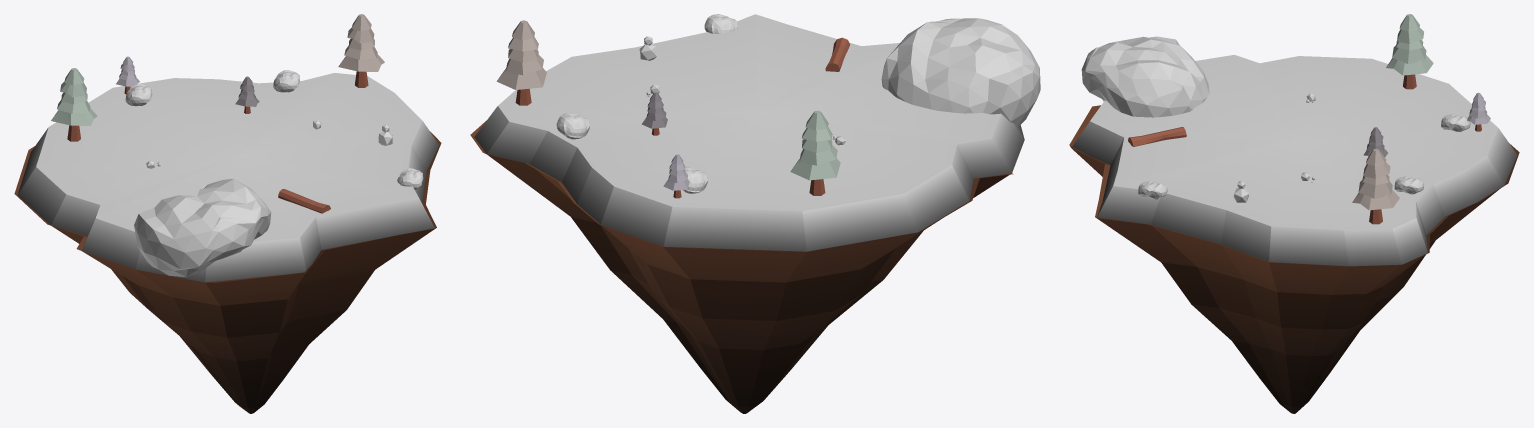
File: table_snow.glb
The picture shows the model from 3 angles, left to right: view 1: azimuth 30°, elevation 25°; view 2: azimuth 150°, elevation 25°; view 3: azimuth 270°, elevation 25°; orthographic projection. The views are drawn at different scales.
Parts seen in each view (by area): view 1: Vert.001, Vert, Icosphere.011, Tree.005, Tree.001, Cylinder.001, Tree.002, Icosphere.001, Icosphere.020, Tree.003, Icosphere.010; view 2: Vert.001, Vert, Icosphere.011, Tree.001, Tree.005, Icosphere.001, Tree.003, Tree.002, Icosphere.010; view 3: Vert.001, Vert, Icosphere.011, Tree.001, Tree.005, Cylinder.001, Tree.003, Icosphere.010, Icosphere.001, Icosphere.020.
Part boxes in pixels (x1,y1,x2,y2): Vert.001: (17, 73, 439, 282); Vert: (14, 131, 441, 413); Icosphere.011: (134, 178, 271, 277); Tree.005: (51, 68, 97, 141); Tree.001: (338, 14, 384, 87); Cylinder.001: (278, 189, 330, 213); Tree.002: (235, 76, 259, 113); Icosphere.001: (273, 70, 299, 92); Icosphere.020: (125, 83, 152, 106); Tree.003: (116, 56, 139, 94); Icosphere.010: (397, 168, 423, 189); Vert.001: (474, 14, 1024, 251); Vert: (470, 120, 1013, 413); Icosphere.011: (881, 18, 1040, 126); Tree.001: (496, 20, 546, 105); Tree.005: (790, 110, 840, 195); Icosphere.001: (556, 113, 589, 139); Tree.003: (663, 154, 689, 198); Tree.002: (642, 92, 667, 135); Icosphere.010: (704, 14, 737, 33); Vert.001: (1071, 55, 1517, 266); Vert: (1069, 105, 1519, 413); Icosphere.011: (1081, 36, 1209, 117); Tree.001: (1352, 148, 1399, 224); Tree.005: (1386, 14, 1433, 89); Cylinder.001: (1128, 127, 1186, 146); Tree.003: (1467, 92, 1490, 131); Icosphere.010: (1138, 181, 1167, 199); Icosphere.001: (1394, 176, 1423, 194); Icosphere.020: (1441, 114, 1470, 131).
Size of the model in its own units: 7.31 by 5.92 by 7.14.
Materials: 16 (2 with a texture image).
